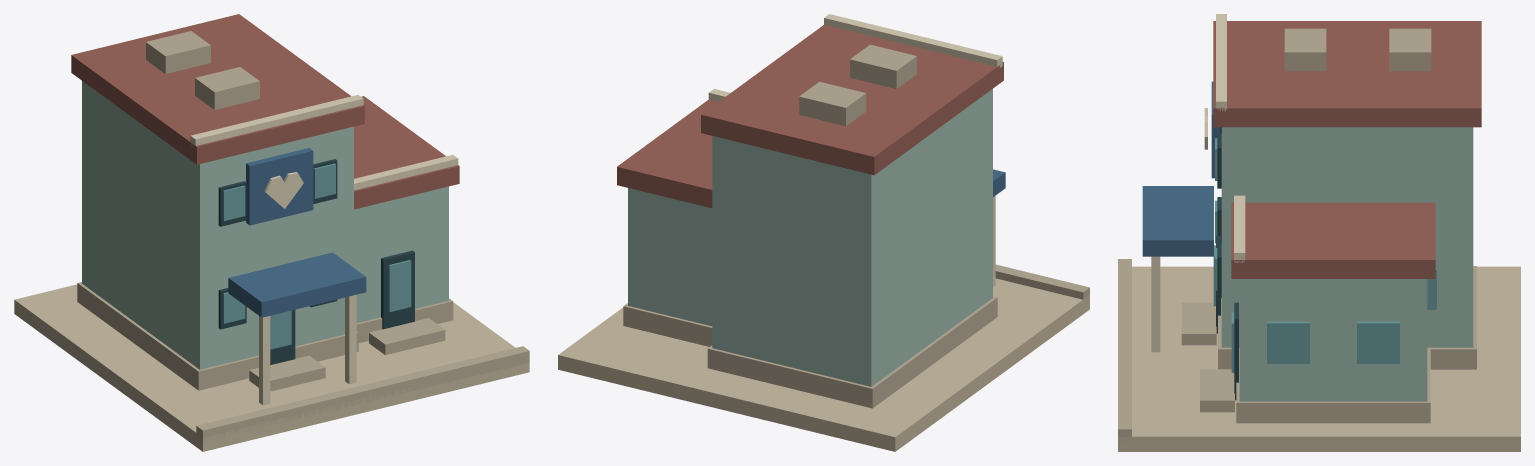
File: hospital-seabreeze-complete.glb
3 views of the same model, side by side, from view 1: azimuth 30°, elevation 25°; view 2: azimuth 150°, elevation 25°; view 3: azimuth 270°, elevation 25° (orthographic). The views are drawn at different scales.
Parts seen in each view (by area): view 1: hospital; view 2: hospital; view 3: hospital.
Boxes of the visible parts, x1,y1,x2,y2 form: hospital: (14, 14, 529, 451); hospital: (558, 14, 1089, 451); hospital: (1118, 14, 1520, 451).
Bounding box in the file's own units: 2.88 × 2.37 × 2.88.
